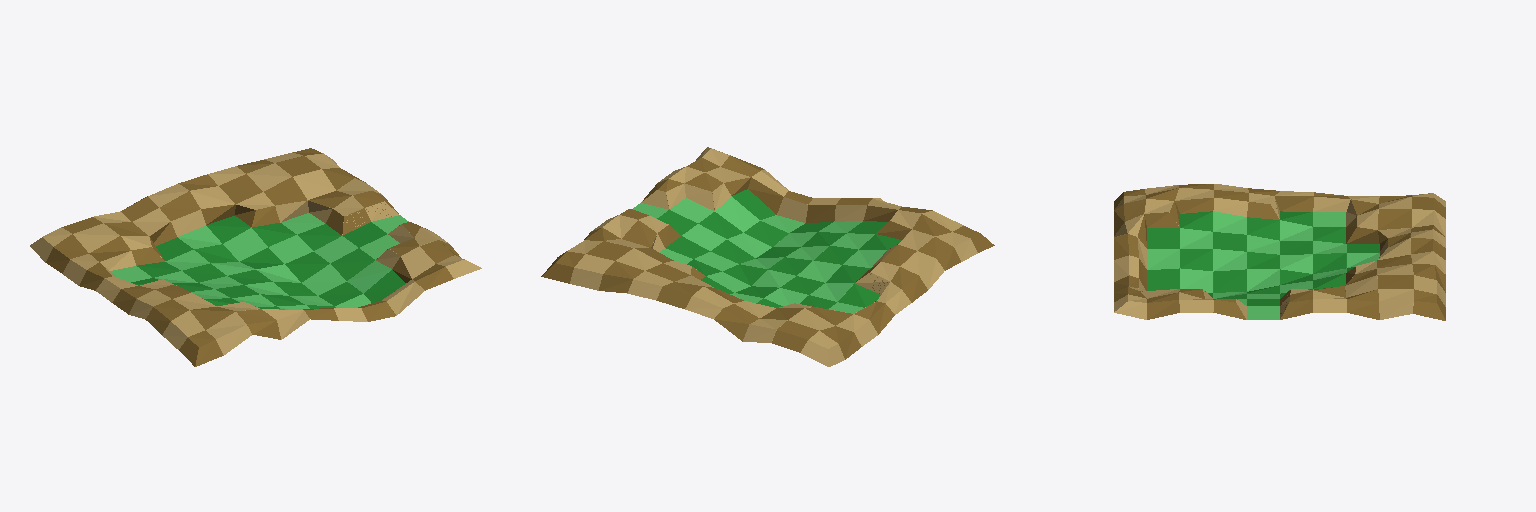
3 views of the same model, side by side, from view 1: azimuth 30°, elevation 25°; view 2: azimuth 150°, elevation 25°; view 3: azimuth 270°, elevation 25° (orthographic).
Size of the model in its own units: 9.97 by 1.52 by 9.97.
2 materials, 2 textured.